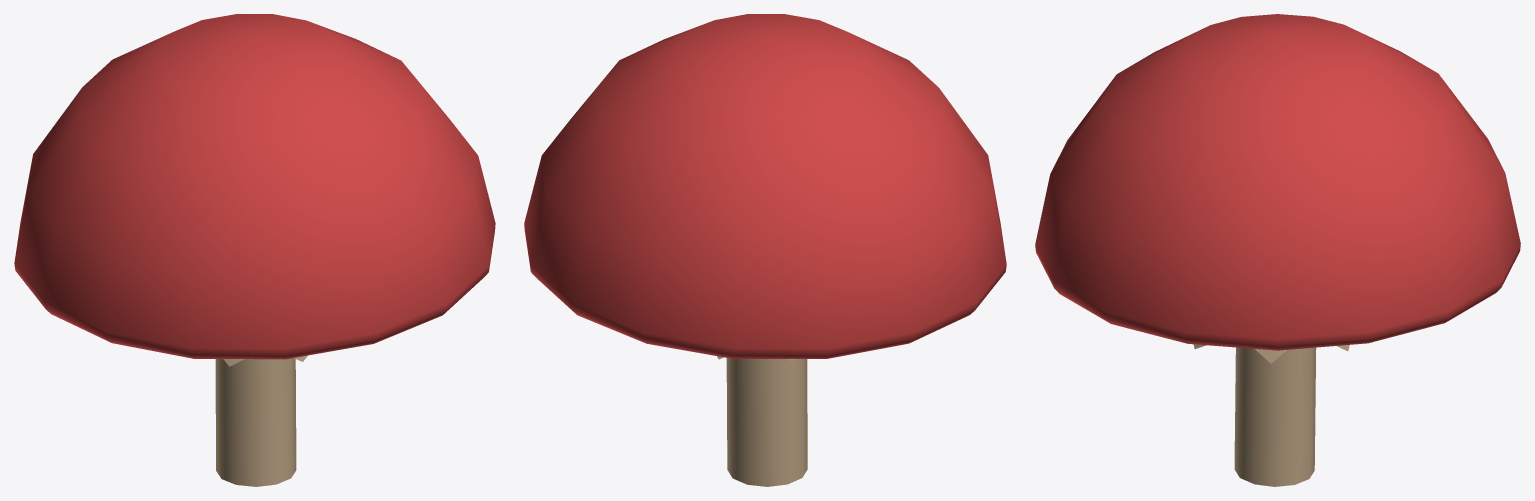
Rendered from Mashroom_01_3.fbx.
3 renders of one model, left to right at view 1: azimuth 30°, elevation 25°; view 2: azimuth 150°, elevation 25°; view 3: azimuth 270°, elevation 25°, orthographic.
Parts seen in each view (by area): view 1: Mashroom_01_3; view 2: Mashroom_01_3; view 3: Mashroom_01_3.
Part boxes in pixels (left/top/right/bottom): Mashroom_01_3: left=14, top=14, right=495, bottom=486; Mashroom_01_3: left=524, top=14, right=1006, bottom=486; Mashroom_01_3: left=1035, top=14, right=1520, bottom=486.
Bounding box in the file's own units: 142 × 140 × 142.
